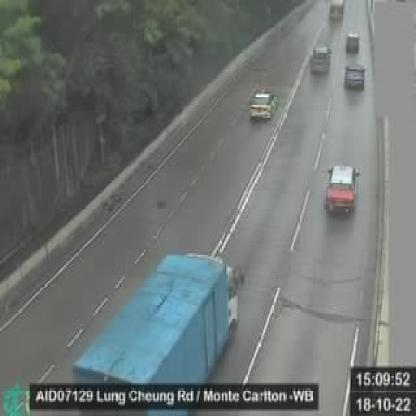Car: (324, 163, 359, 220), (247, 89, 280, 123), (342, 62, 366, 92), (309, 45, 332, 76), (328, 0, 348, 24), (345, 29, 361, 55)
Truck: (69, 249, 252, 410)
